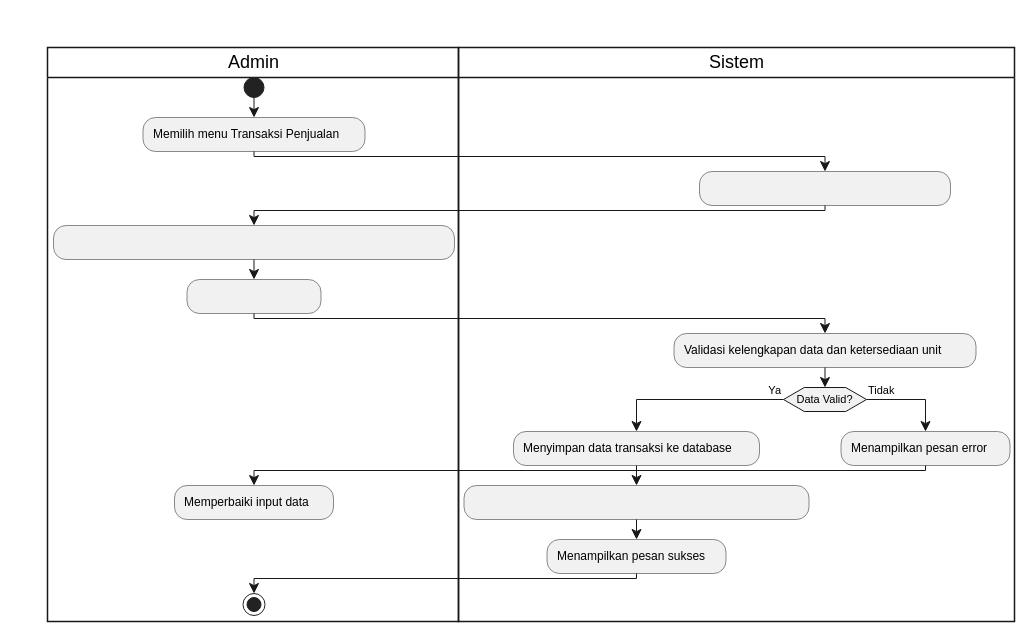
Image size: 1032x639. Some labels were removed from this diagram. The shapes that lost their labels are listed below. From the top down, each one's centre as x and y in pixels, then its label:
point (824, 188): Menampilkan Form Transaksi Penjualan
point (253, 242): Memasukkan data pelanggan, unit rumah, sales, dan booking fee
point (253, 296): Klik tombol Simpan
point (636, 502): Mengubah status unit rumah menjadi "Terjual/Booking"
